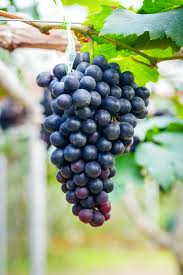Black grapes: (48, 48, 126, 230)
